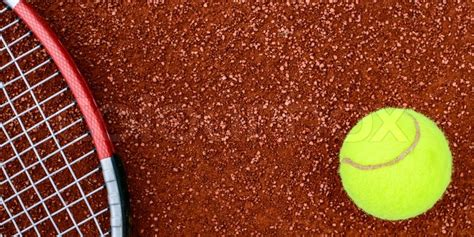tennis_ball: (339, 108, 452, 220)
